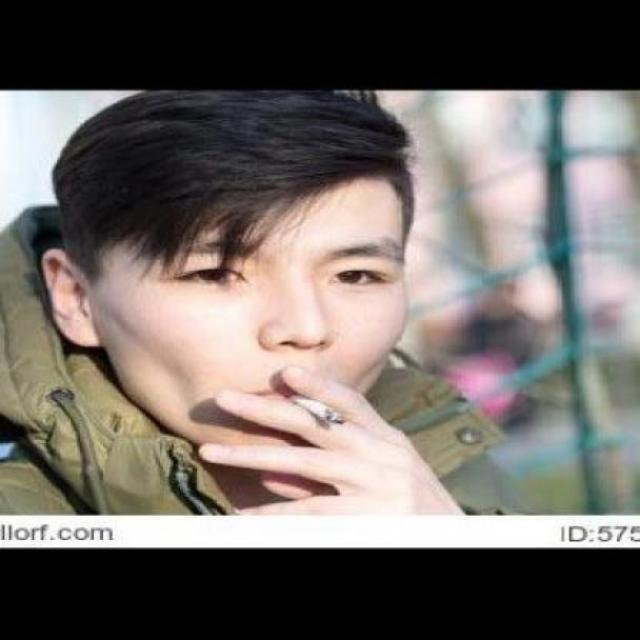rokok: (286, 394, 350, 430)
